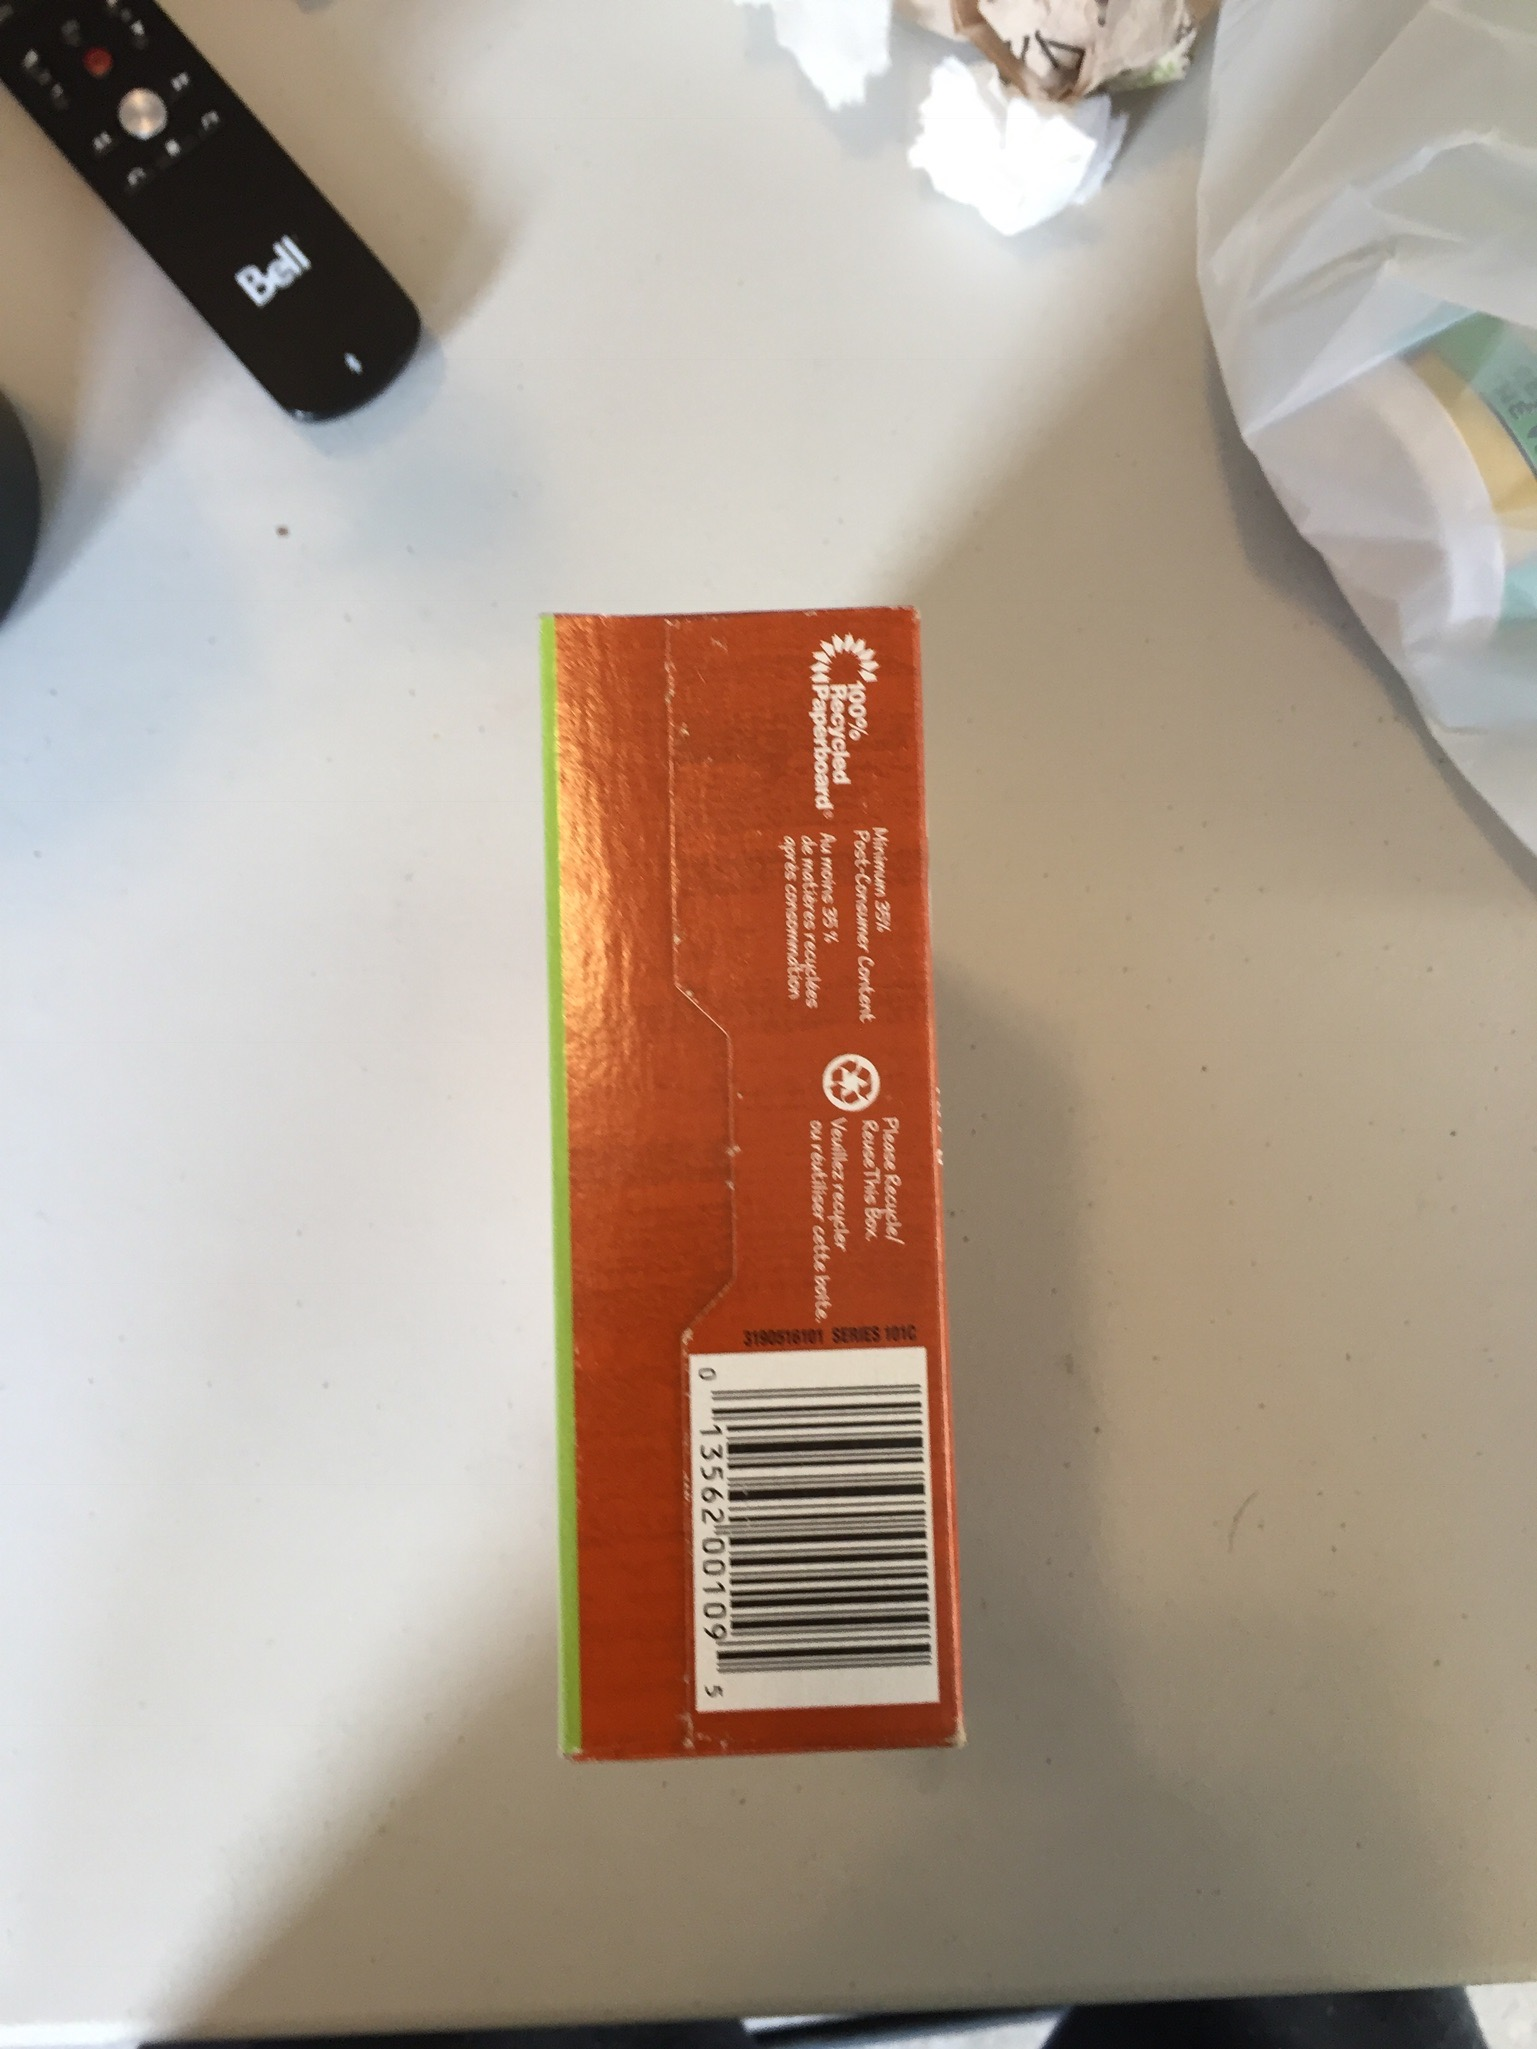annies_snickerdoodle_cinnamon_sugar: (560, 622, 949, 1749)
